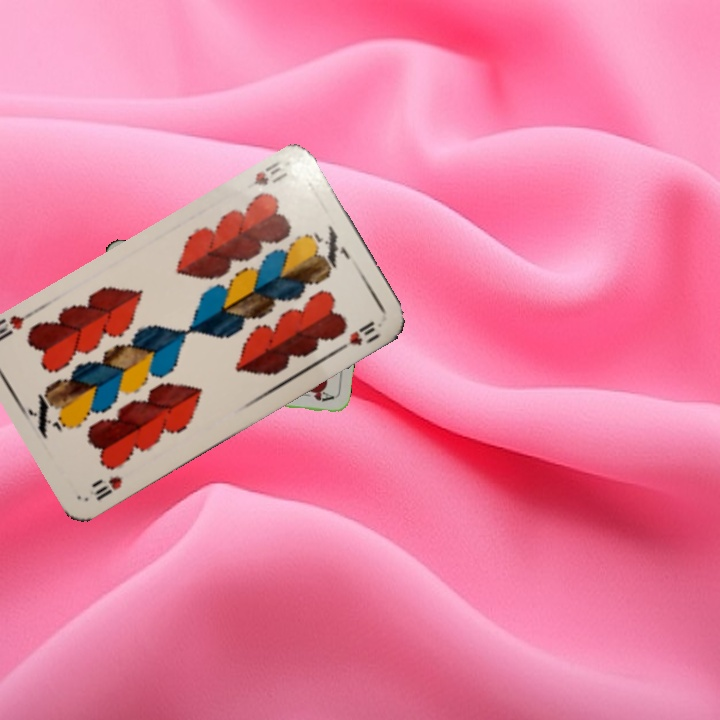H10: (85, 472, 125, 504), (249, 157, 290, 188)
